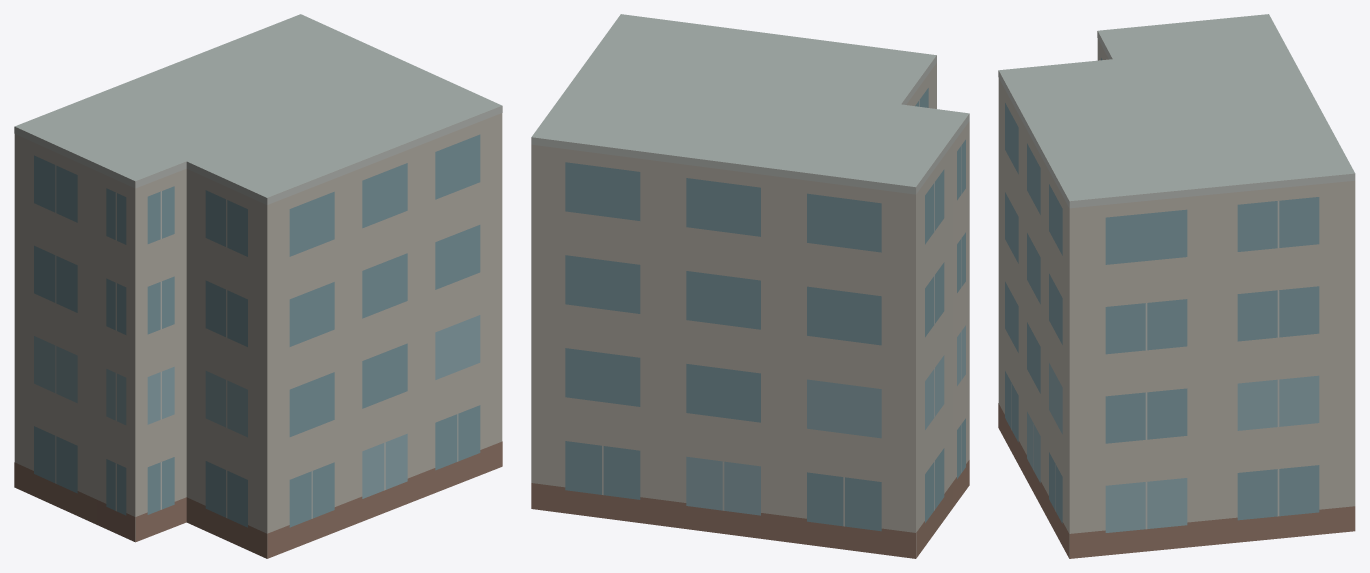
The model's file is residential-f5742b3b-2737-4f0f-9cb9-0b0790006259.glb.
The picture shows the model from 3 angles, left to right: view 1: azimuth 30°, elevation 25°; view 2: azimuth 150°, elevation 25°; view 3: azimuth 270°, elevation 25°; orthographic projection. The views are drawn at different scales.
Visible parts, largest first — view 1: residential-f5742b3b-2737-4f0f-9cb9-0b0790006259.tmp; view 2: residential-f5742b3b-2737-4f0f-9cb9-0b0790006259.tmp; view 3: residential-f5742b3b-2737-4f0f-9cb9-0b0790006259.tmp.
Boxes of the visible parts, x1,y1,x2,y2 form: residential-f5742b3b-2737-4f0f-9cb9-0b0790006259.tmp: (14,14,502,558); residential-f5742b3b-2737-4f0f-9cb9-0b0790006259.tmp: (531,14,969,558); residential-f5742b3b-2737-4f0f-9cb9-0b0790006259.tmp: (998,14,1355,558).
Size of the model in its own units: 13.71 by 12.2 by 11.04.
